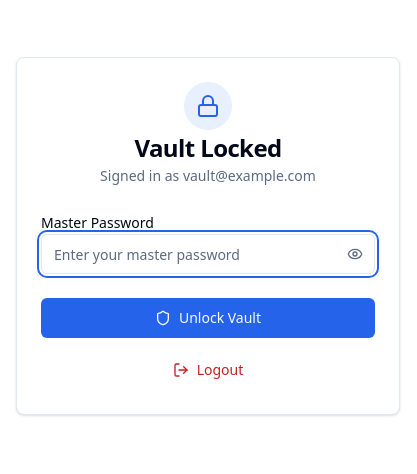
unlock — transient failures must not cost the user their session › a 429 from verify-unlock reports the wait and does NOT count as a failed attempt
Type "whatever" into the password field labelled "Master Password" at (208, 254), box x1=41 y1=234 x2=375 y2=274
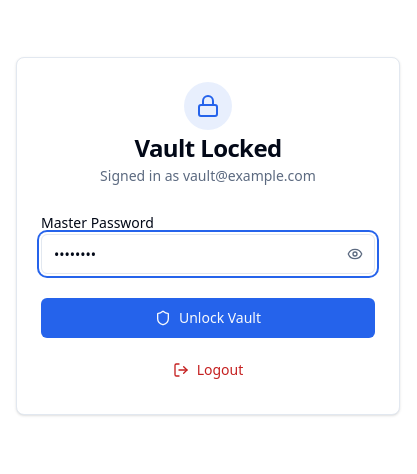
Click the button "Unlock Vault" at (208, 318), box x1=41 y1=298 x2=375 y2=338
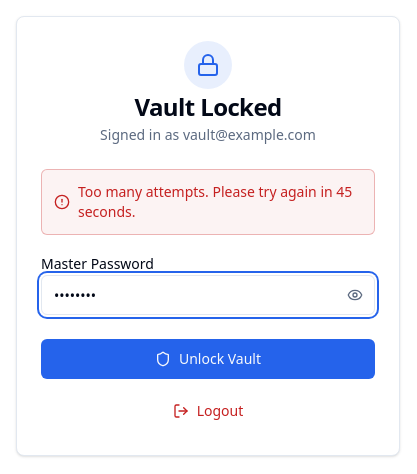
expect the text "Too many attempts. Please try again in 45 seconds." is shown: met, box x1=78 y1=182 x2=362 y2=222
